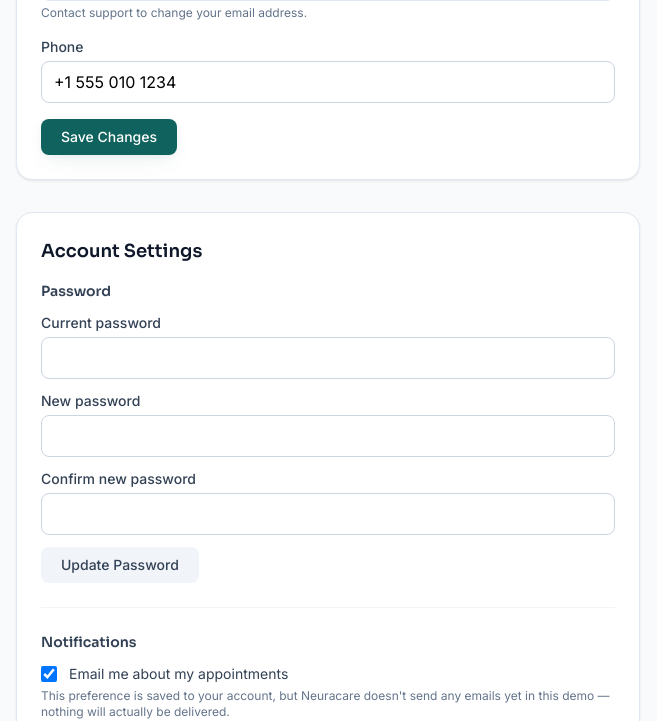
Profile › changes the password successfully
(page scrolled)
Type "oldpassword123" into the password field labelled "Current password" at x=328, y=358, box [41,337,615,379]
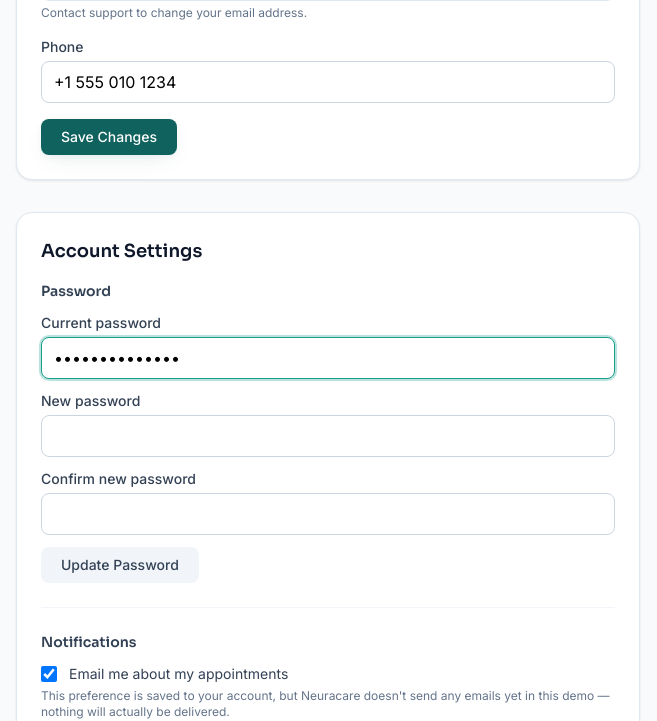
Type "newpassword123" into the password field labelled "New password" at x=328, y=436, box [41,415,615,457]
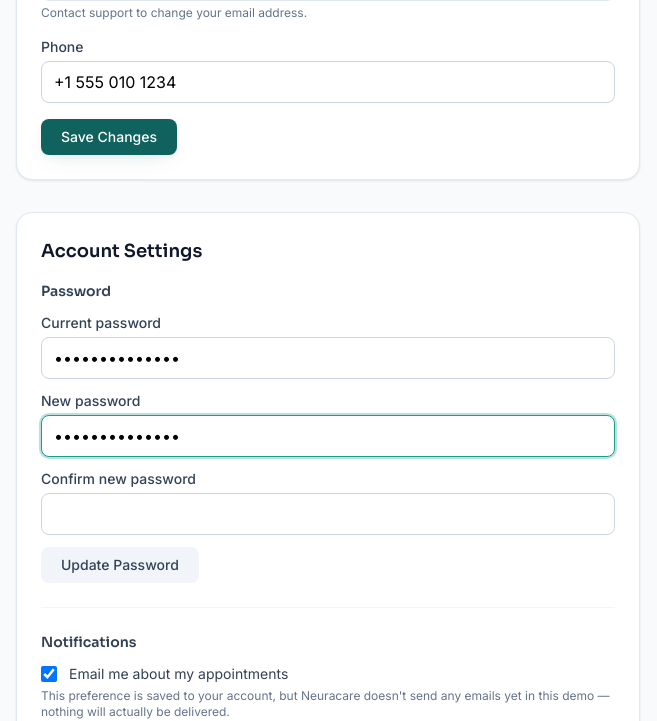
Type "newpassword123" into the password field labelled "Confirm new password" at x=328, y=514, box [41,493,615,535]
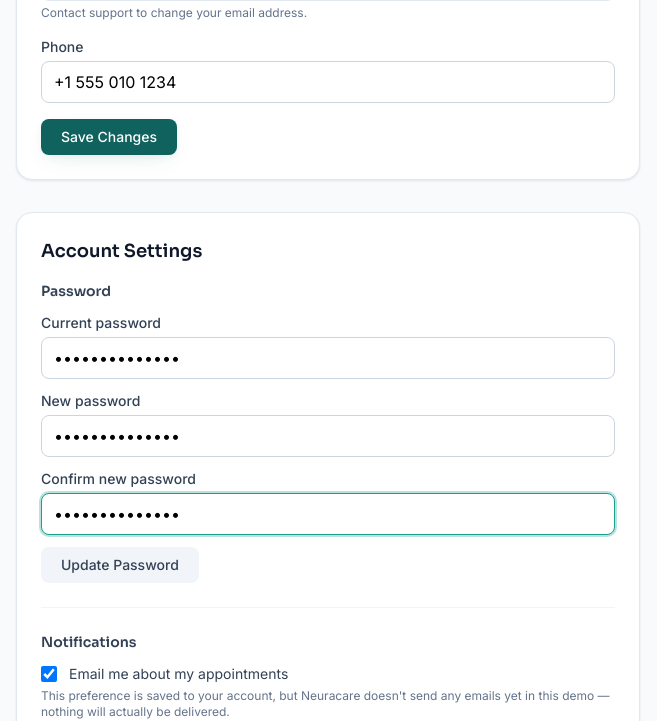
Click the button "Update Password" at x=120, y=565, box [41,547,199,583]
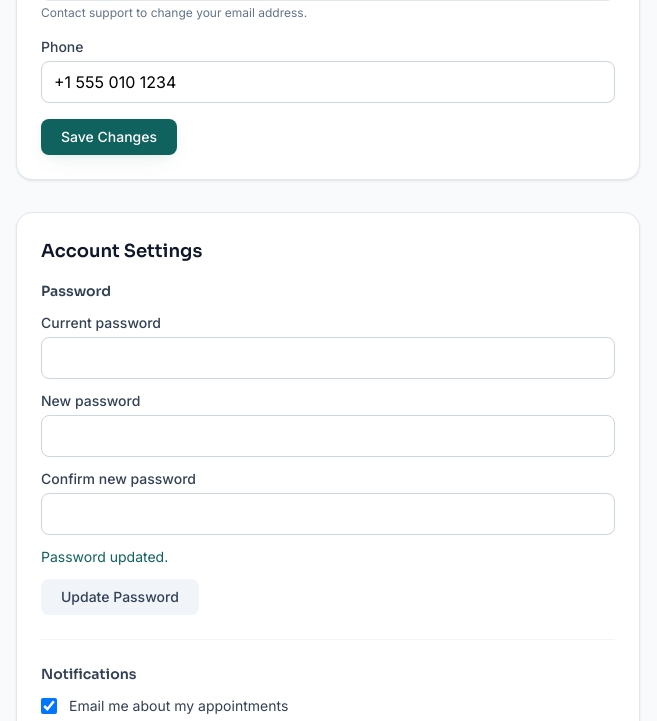
Check: the text "Password updated." is shown, box [41,548,168,565]
